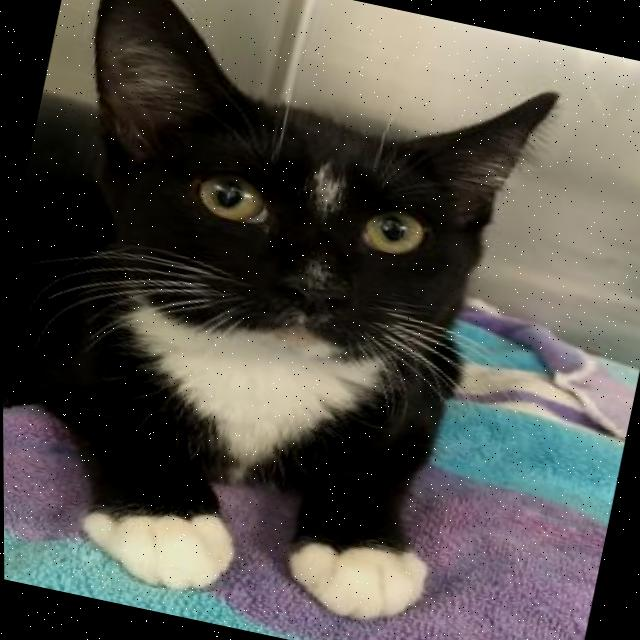Tuxedo: (0, 0, 576, 640)
